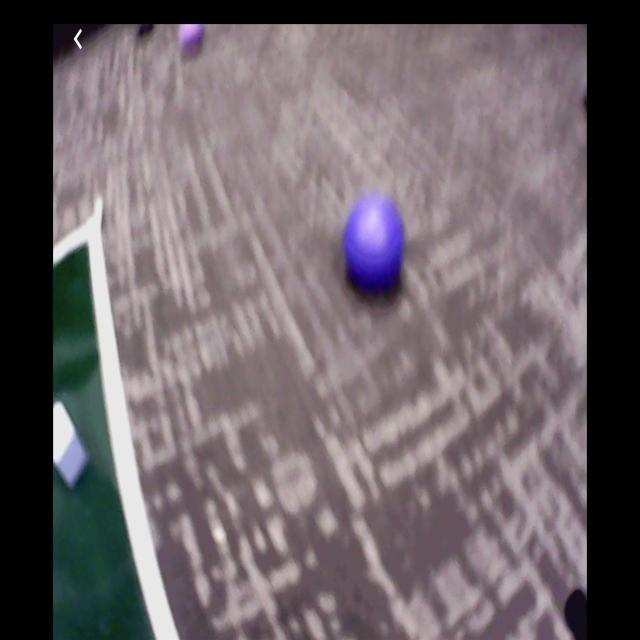ball: (346, 196, 403, 297), (181, 26, 205, 56)
